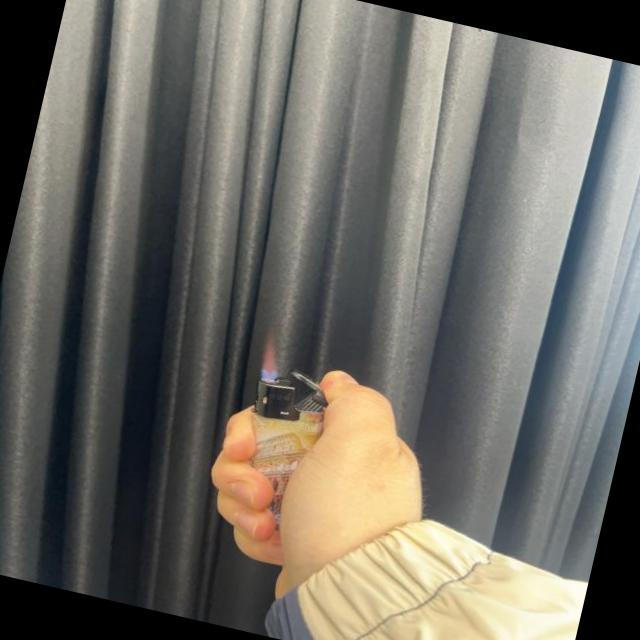Fire: (256, 334, 288, 384)
